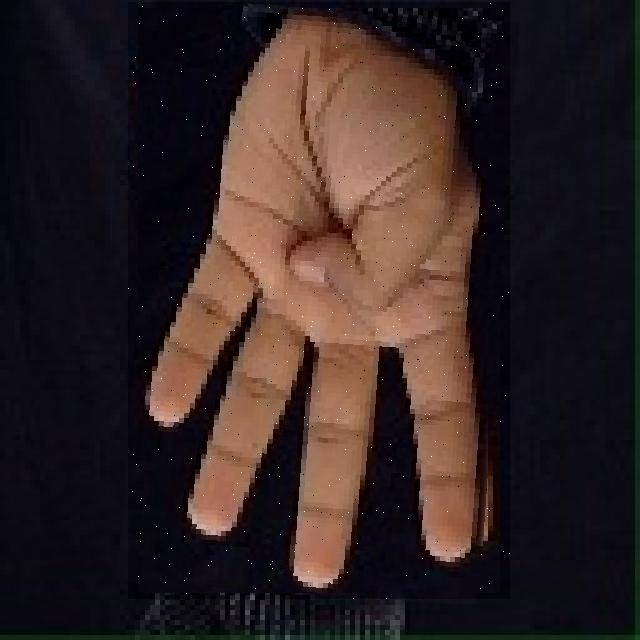Thanks: (128, 2, 510, 599)
